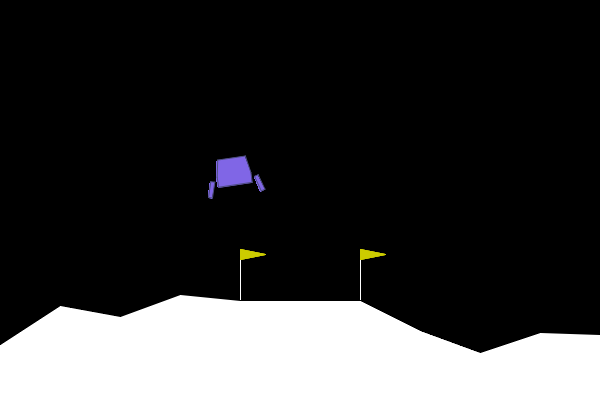lander: (201, 152, 266, 200)
